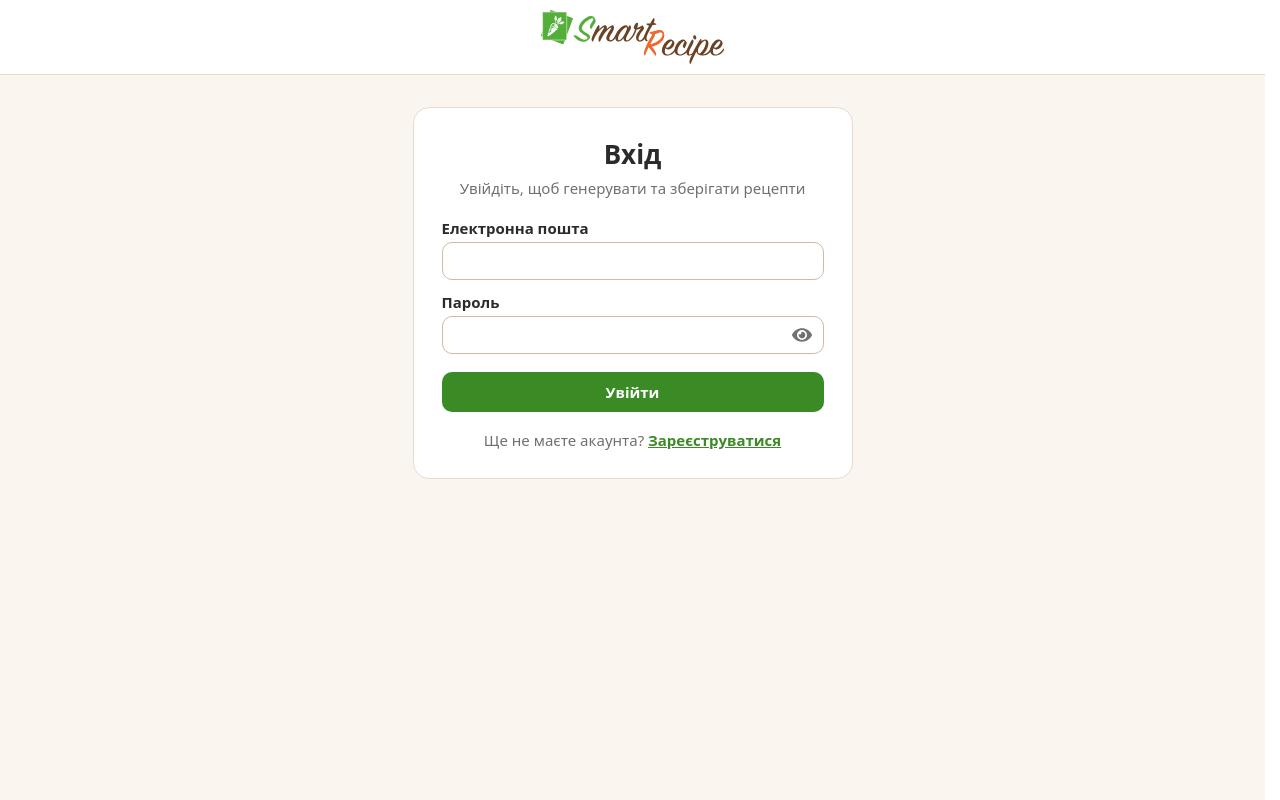
Test: Generation journeys: access › returns to closed page after login
Step 1. Type "stanislav@example.com" into the field labelled "Електронна пошта" → (632, 261), box [442,242,824,280]
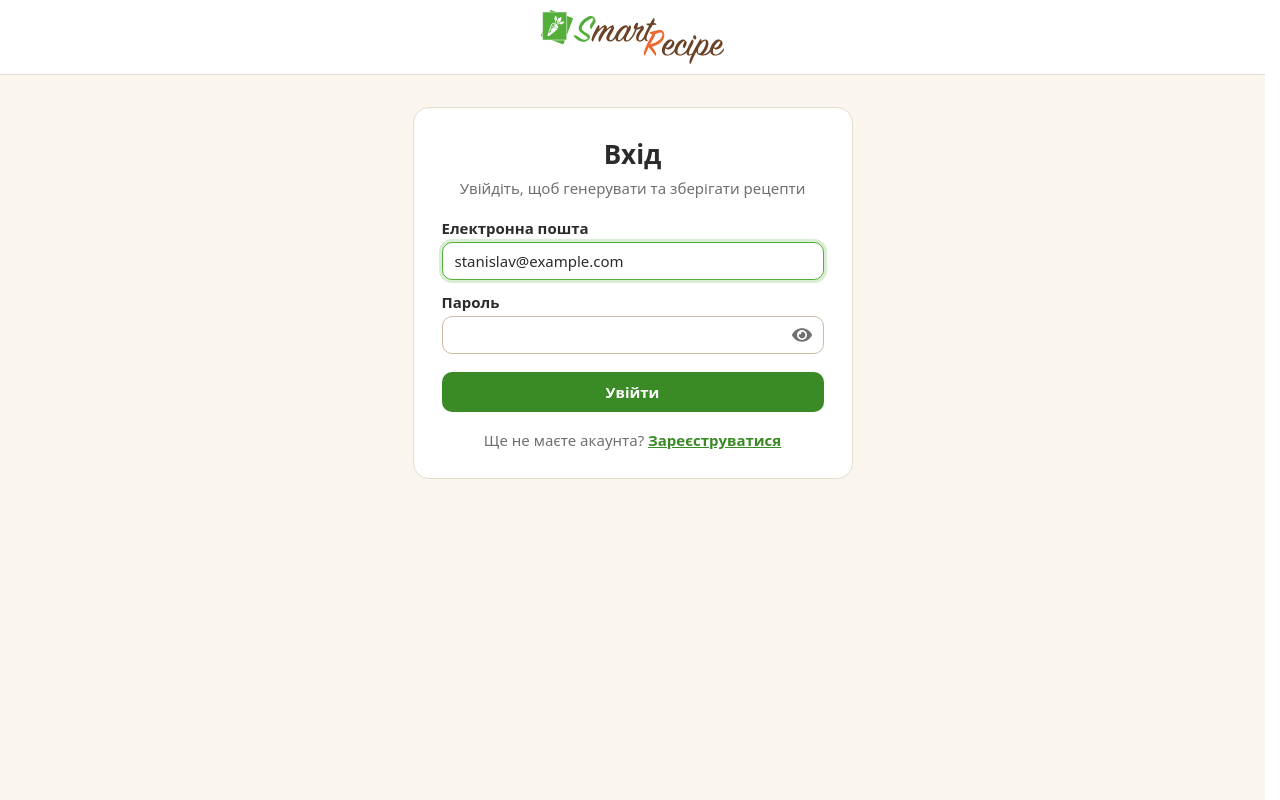
Step 2. Type "Secret123" into the password field labelled "Пароль" → (632, 335), box [442,316,824,354]
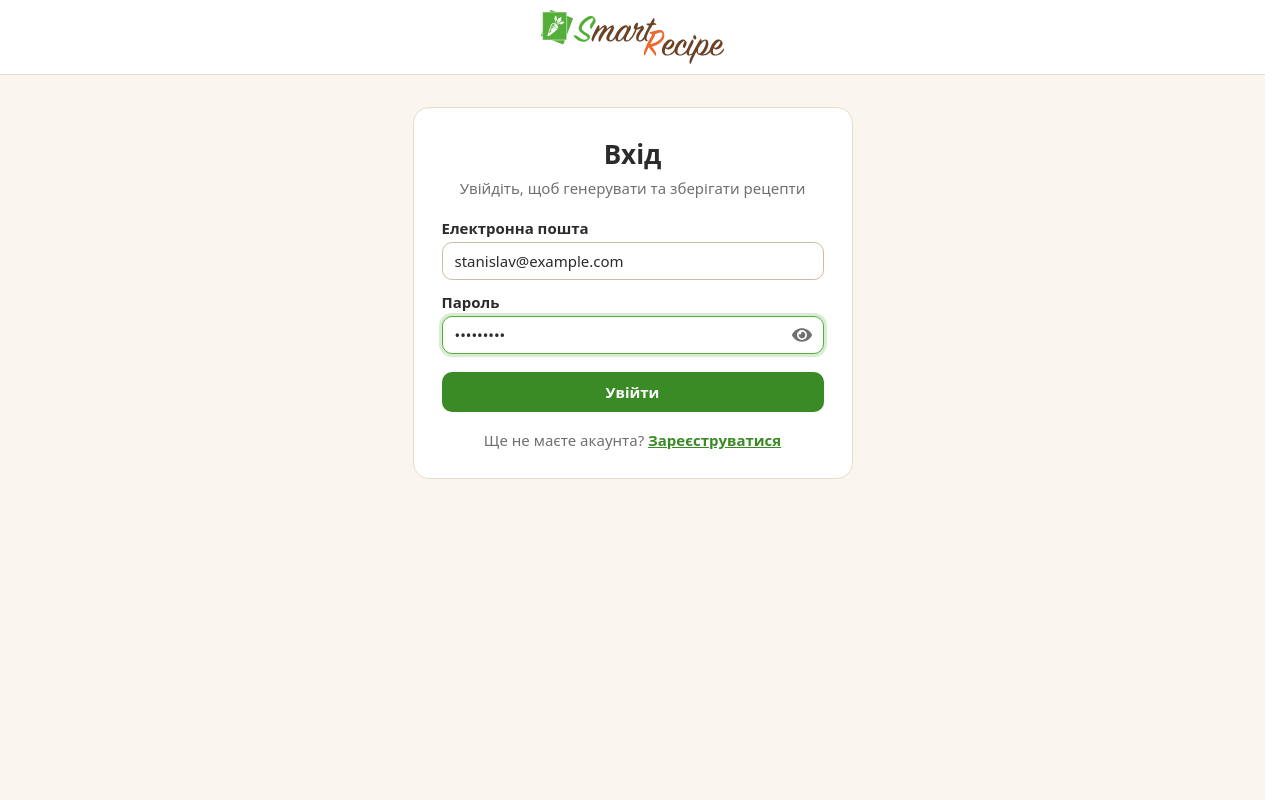
Step 3. Click the button "Увійти" → (632, 392), box [442,372,824,412]
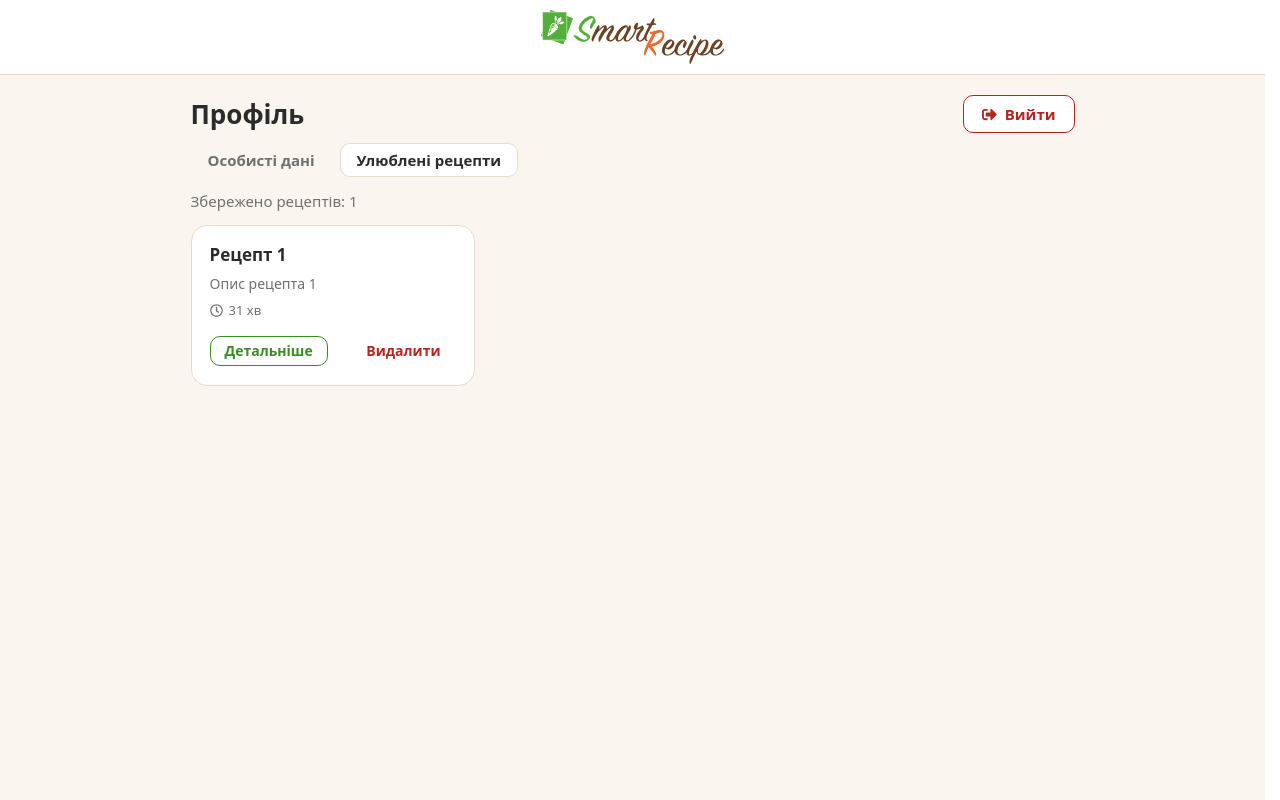
Expected: the heading "Рецепт 1" is shown, [210,243,287,266]
